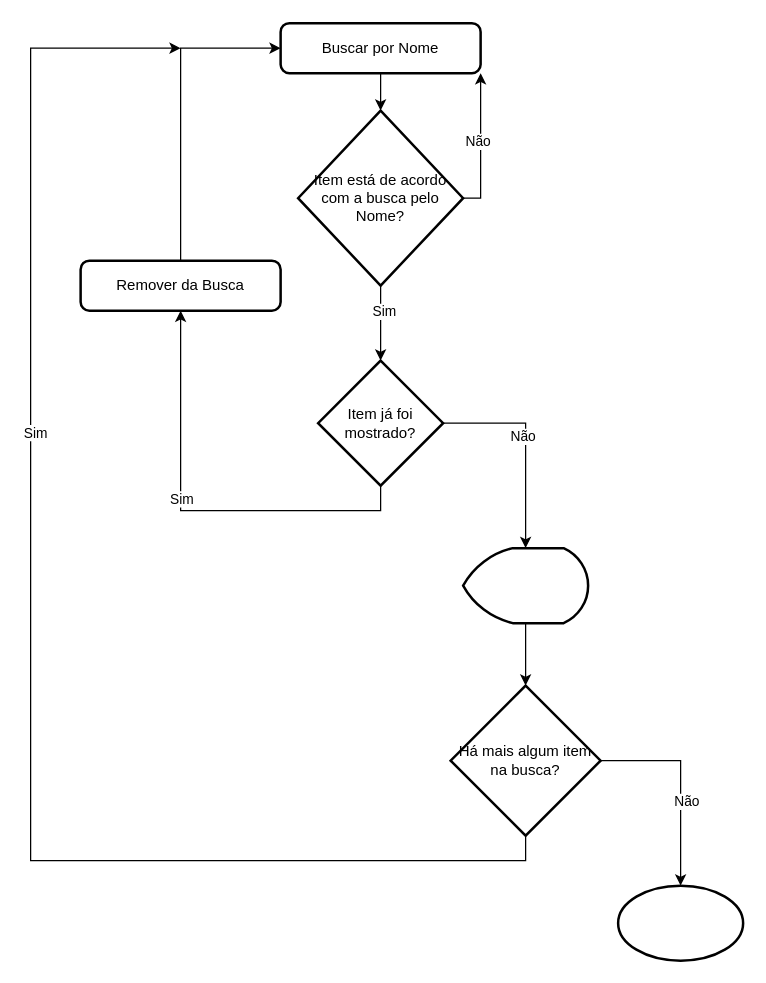
The diagram is 766 pixels wide and 983 high, and some of its shapes have lost their labels. Here are the shapes that lost their labels. From the top down, the centre of each, then its label:
the point at 525,585: Listar Vendedores
the point at 680,922: fim
